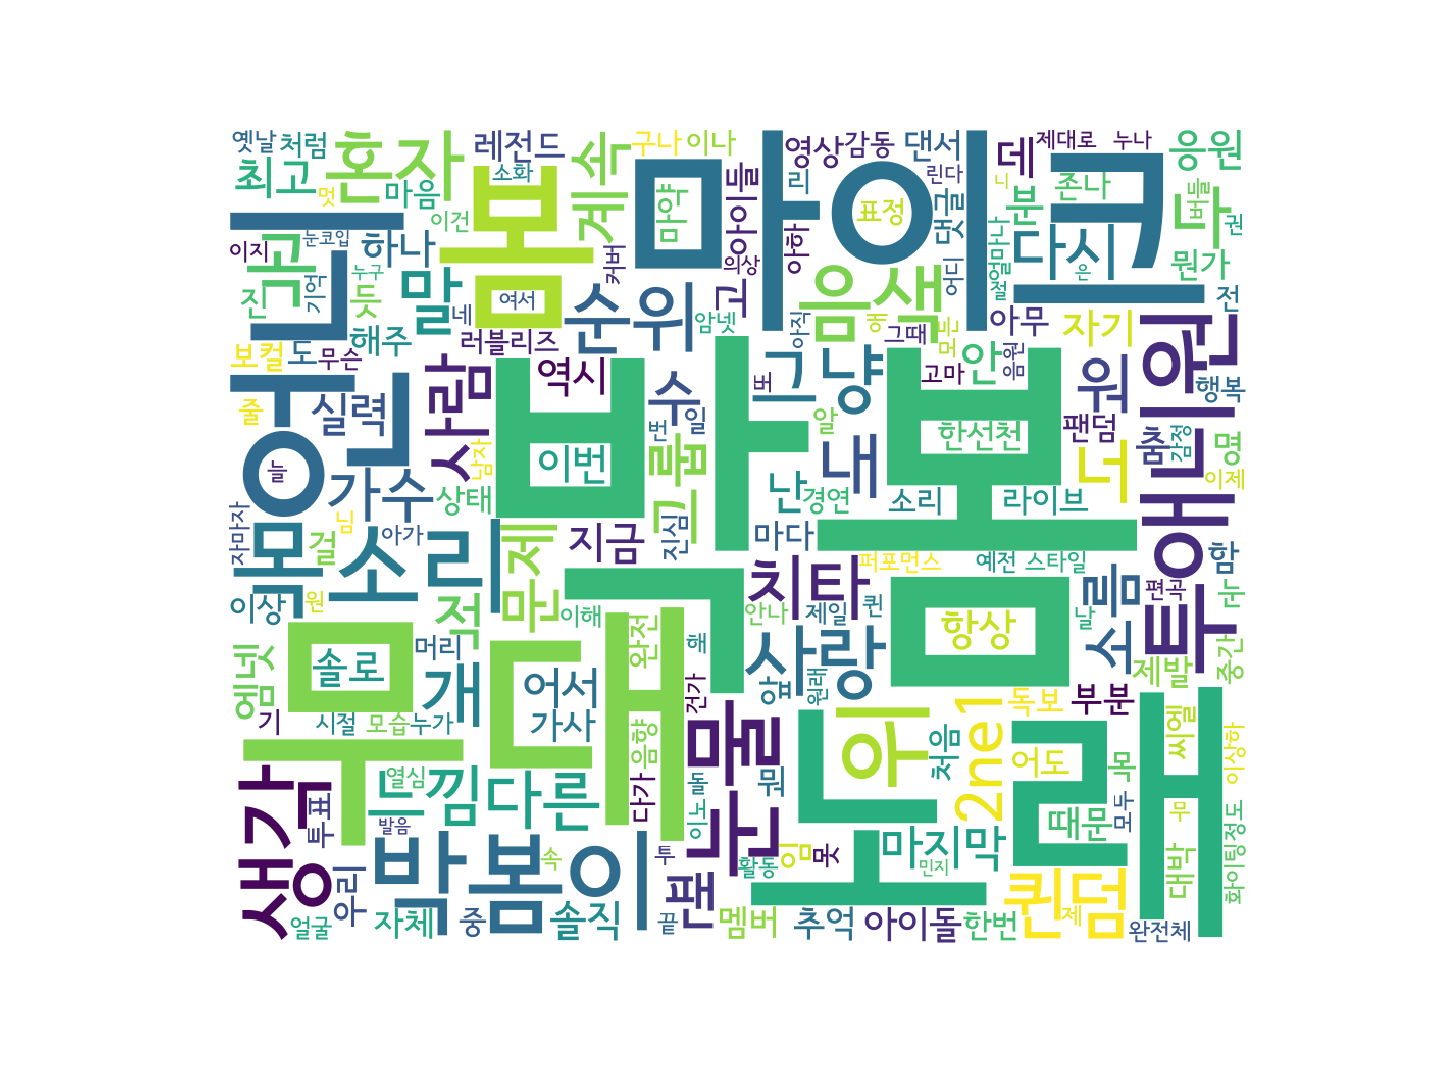

What the dashboard file says about the page in this screenshot:
{"tool":"tableau","page":{"name":"대시보드 1","canvas":[1000,800],"ordinal":0},"visuals":[{"type":"worksheet","title":"시트 1","mark":"Bar","rows":["승차총승객수"],"cols":["등록일자","등록일자","등록일자"],"box":[8,8,824,392]},{"type":"legend","title":"시트 1","param":"[federated.11whdm11277shg11rev0y061gchy].[sum:승차총승객수:qk]","box":[832,8,160,65]},{"type":"text","box":[832,73,160,25]},{"type":"worksheet","title":"시트 2","mark":"Automatic","rows":["승차총승객수"],"cols":["역명"],"box":[8,400,824,392]}]}

Visuals, with their boxes on the page's 1000x800 design canvas (x1, y1, x2, y2). These are canvas units, not pixel positions in the 1440x1080 screenshot, which may show the page scaled, cropped or inside an application window:
"시트 1" worksheet (Bar marks): x1=8, y1=8, x2=832, y2=400
"시트 1" legend: x1=832, y1=8, x2=992, y2=73
text: x1=832, y1=73, x2=992, y2=98
"시트 2" worksheet: x1=8, y1=400, x2=832, y2=792
